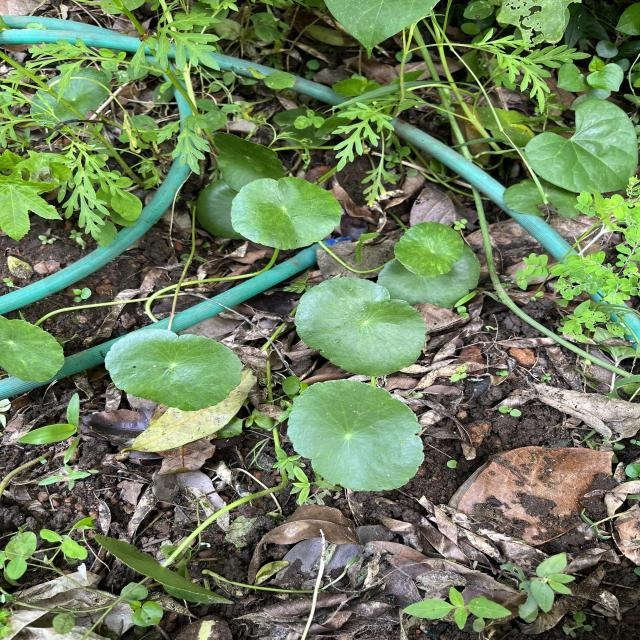Bacopa monnieri: (284, 377, 428, 493), (292, 275, 430, 378), (103, 326, 244, 414), (228, 174, 344, 252), (0, 312, 68, 384), (392, 220, 466, 280)
